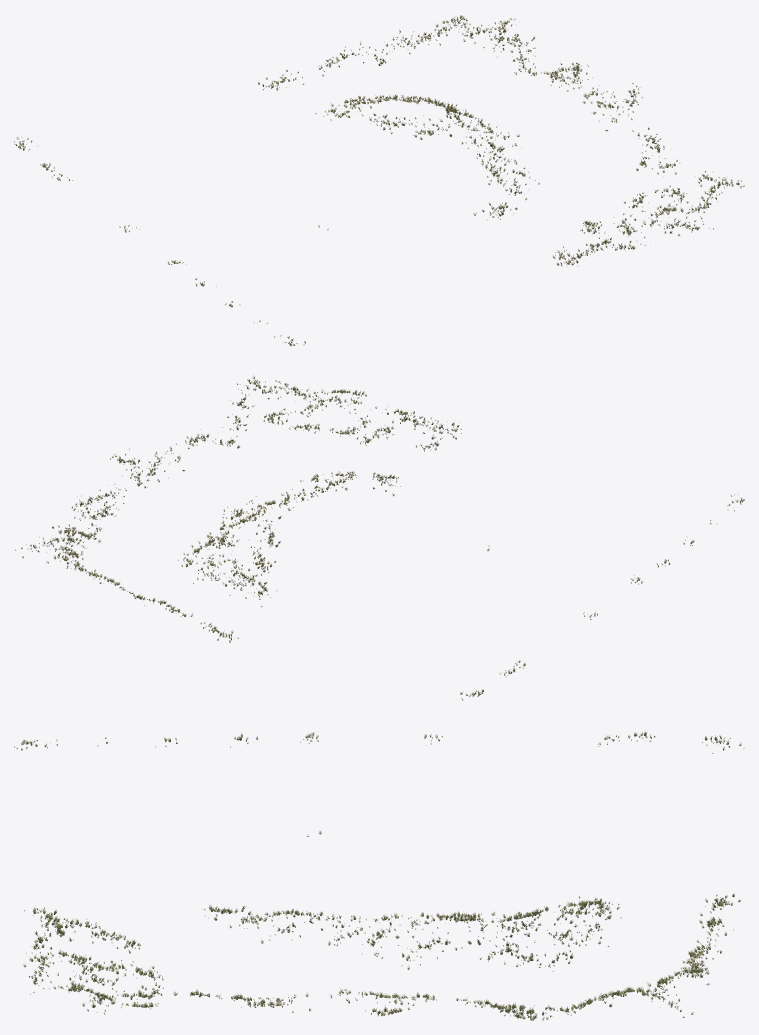
The model's file is grass.glb.
The picture shows the model from 3 angles, top to bottom: view 1: azimuth 30°, elevation 25°; view 2: azimuth 150°, elevation 25°; view 3: azimuth 270°, elevation 25°; orthographic projection. The views are drawn at different scales.
Bounding box in the file's own units: 86.3 × 5.78 × 84.23.
1 material, 1 textured.
